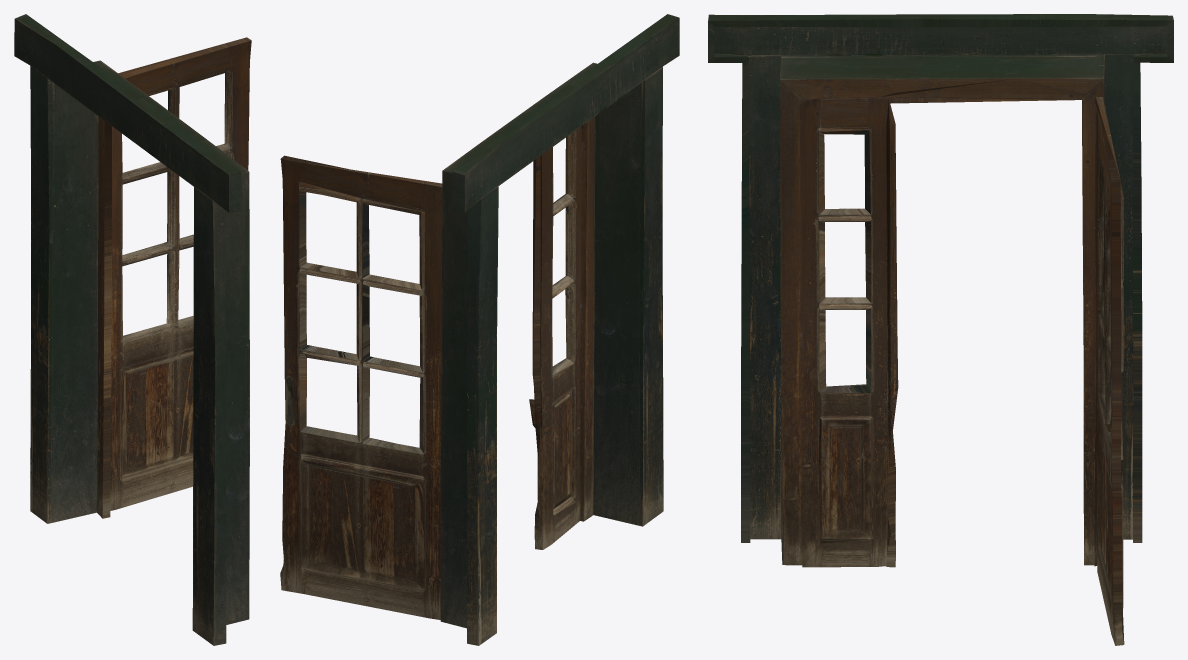
The model's file is House_Door_02.fbx.
3 views of the same model, side by side, from view 1: azimuth 30°, elevation 25°; view 2: azimuth 150°, elevation 25°; view 3: azimuth 270°, elevation 25° (orthographic). The views are drawn at different scales.
Visible parts, largest first — view 1: House_Door_02; view 2: House_Door_02; view 3: House_Door_02.
Part boxes in pixels (x1=…): House_Door_02: x1=14, y1=14, x2=251, y2=645; House_Door_02: x1=280, y1=14, x2=679, y2=645; House_Door_02: x1=708, y1=14, x2=1173, y2=645.
Size of the model in its own units: 114 by 252 by 203.
Materials: 1 (1 with a texture image).
